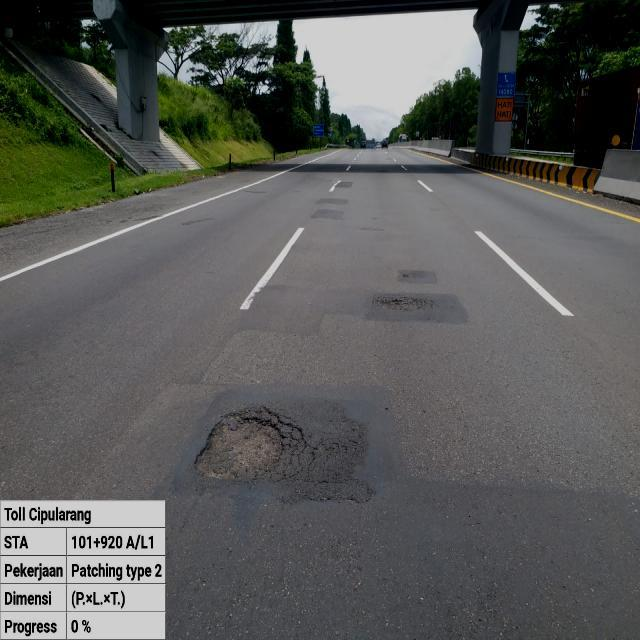Buraco: (189, 403, 312, 486), (373, 295, 430, 314)
